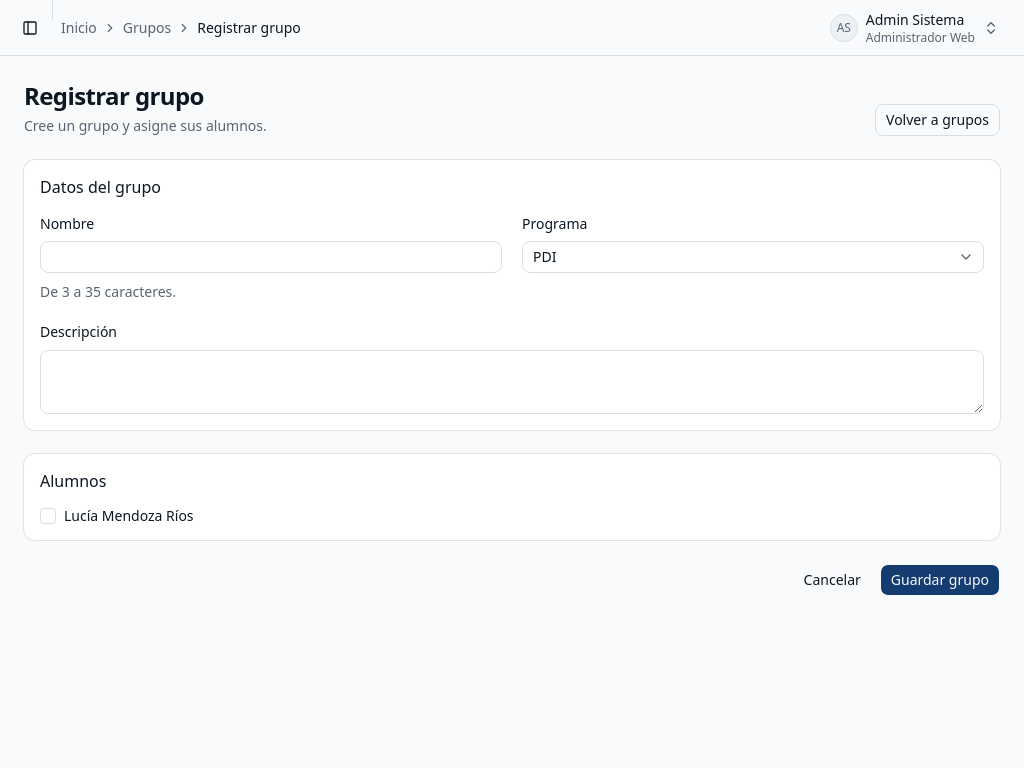
Test: Formulario de grupo › CA-GRU-02 exige un nombre de 3 a 35 caracteres
Type "G" into the field labelled "Nombre" at (271, 257), box left=40, top=241, right=502, bottom=273
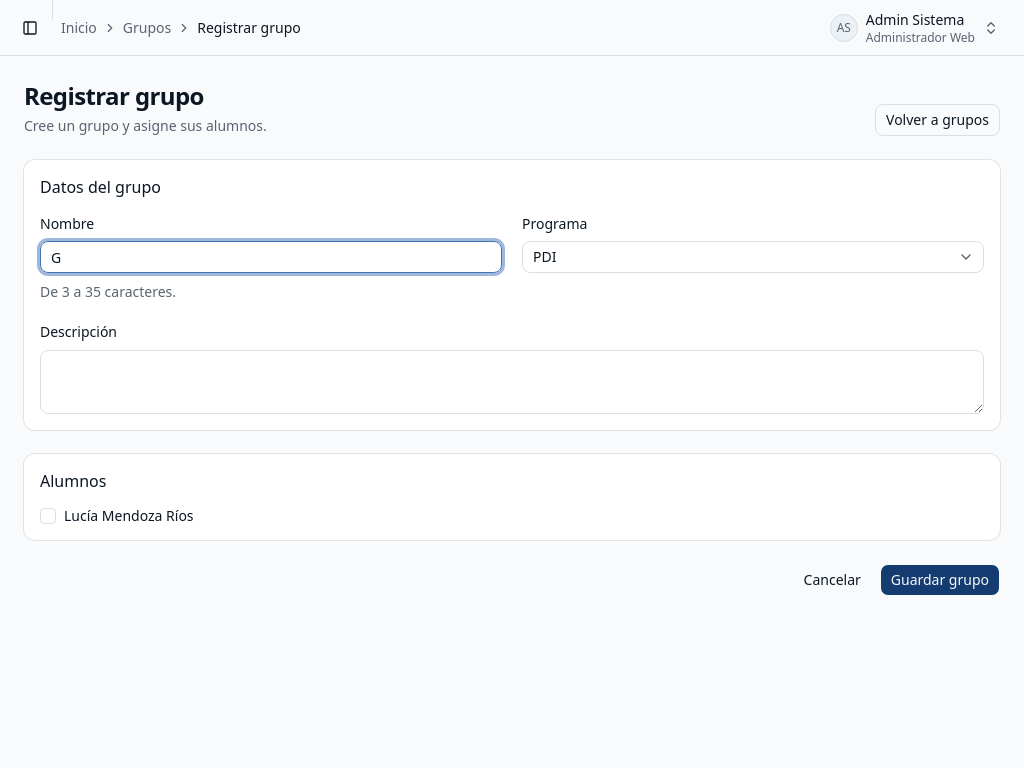
Click the button "Guardar grupo" at (940, 580), box left=880, top=564, right=1000, bottom=596
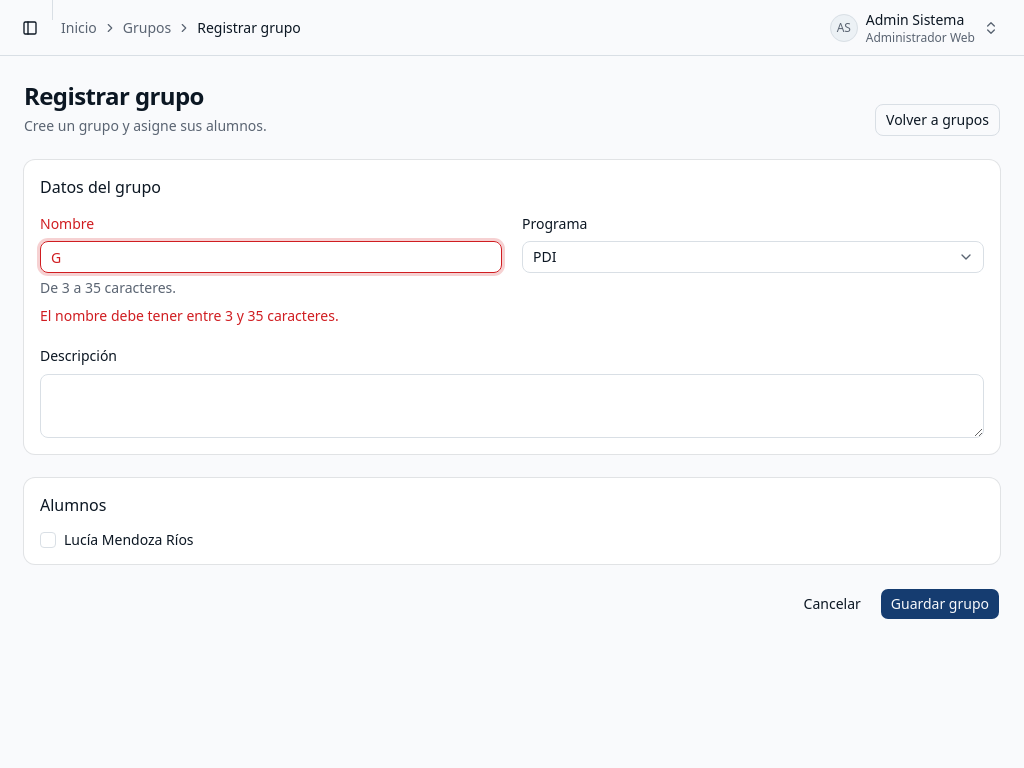
expect the text "El nombre debe tener entre 3 y 35 caracteres." is shown: met, box left=40, top=306, right=339, bottom=325
